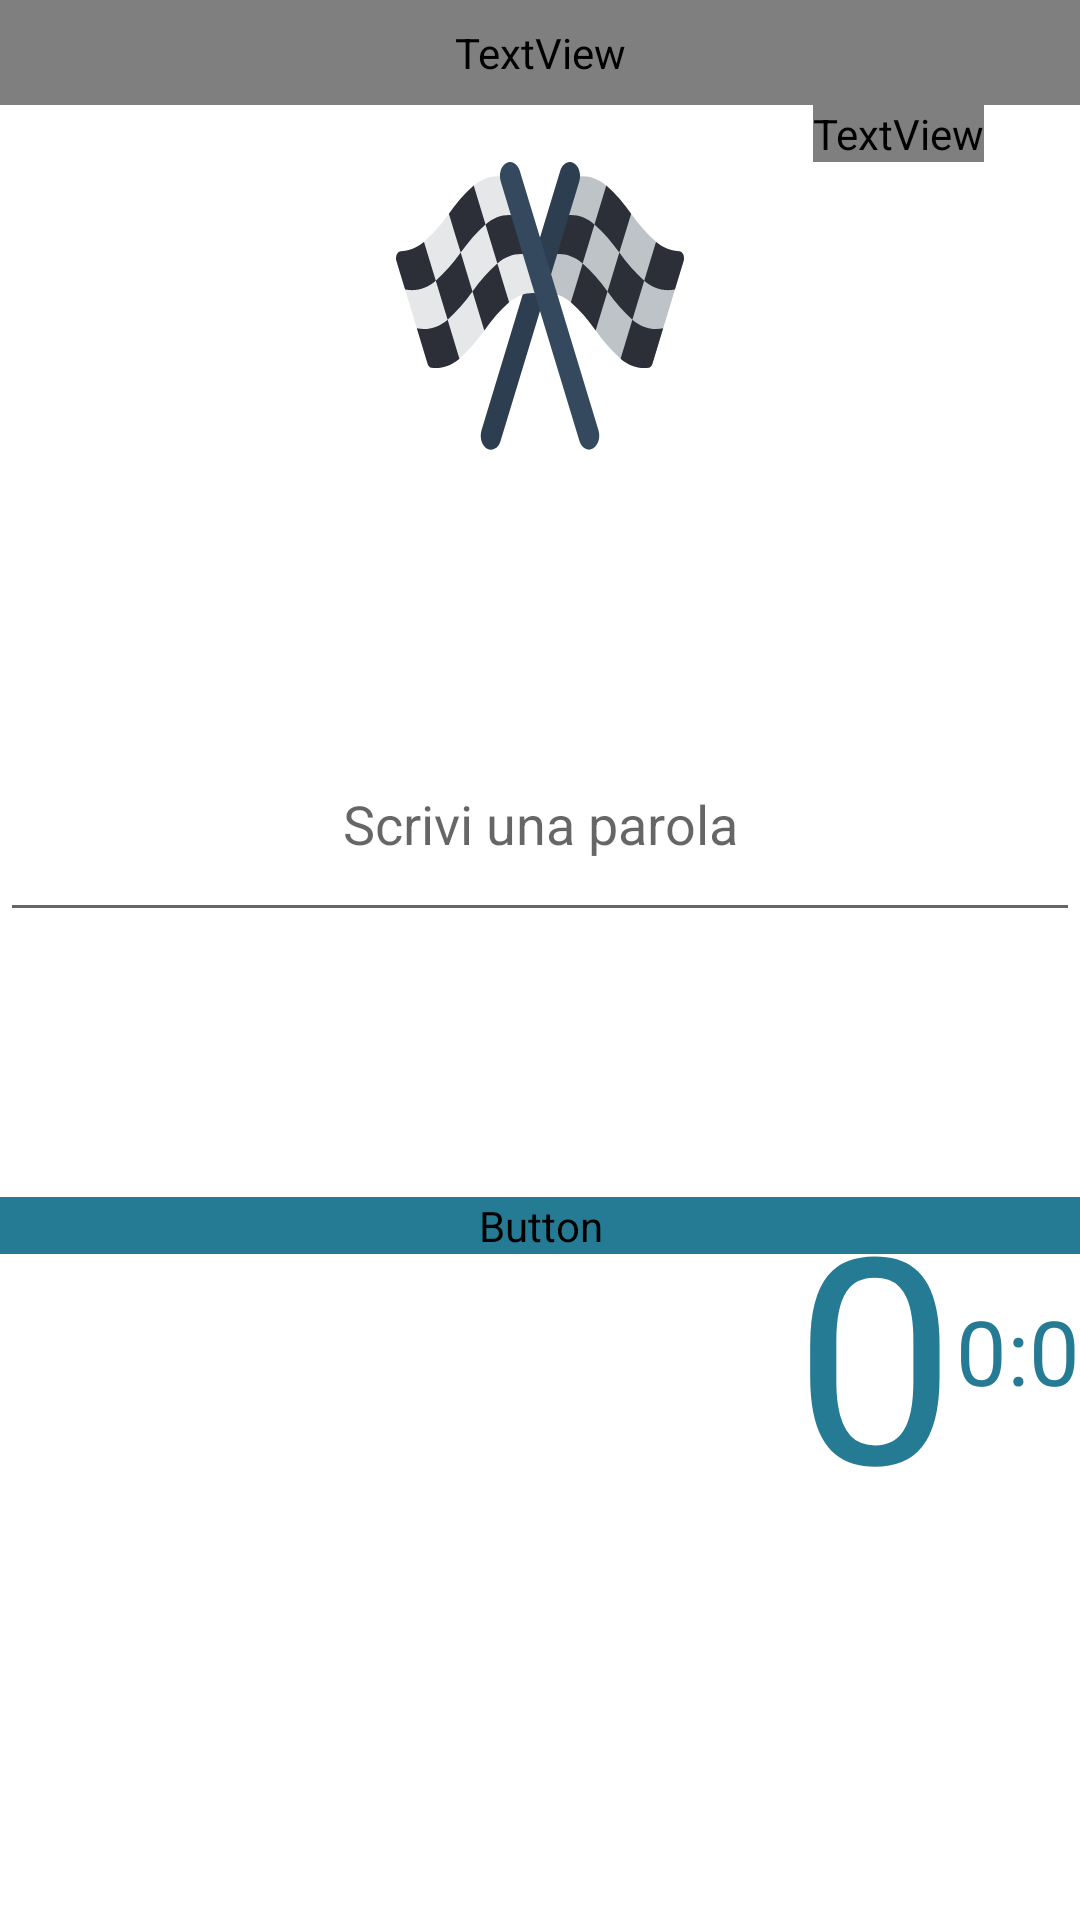

Icon bounding boxes for this 1080px x 1920px phone screenshot, format (x1, y1, x2, y2):
racing flag: (396, 162, 684, 450)
